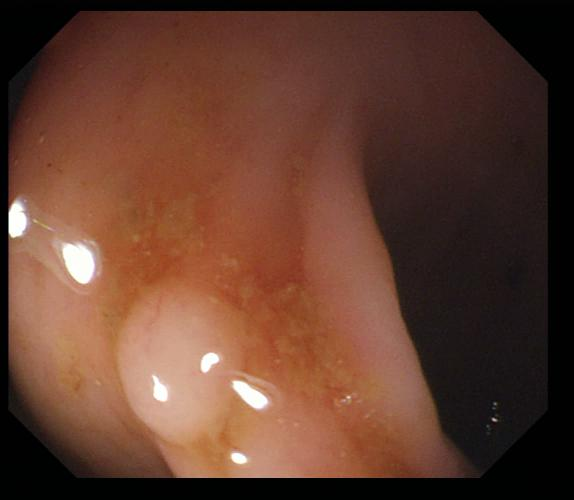polyp: (115, 273, 250, 447)
